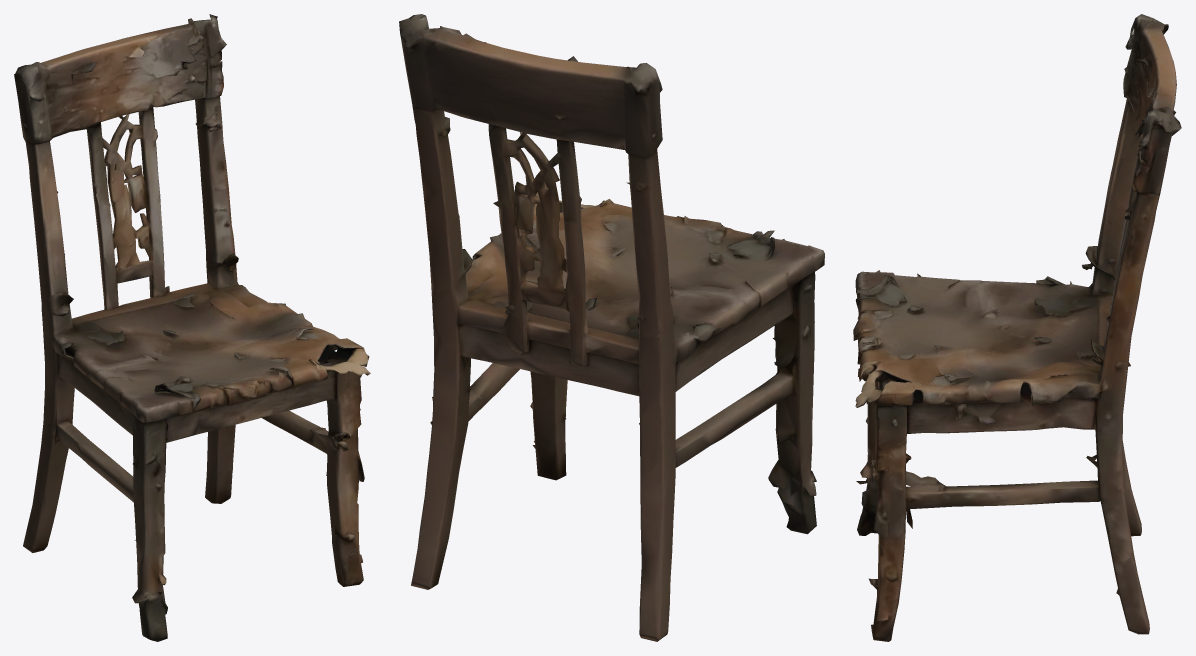
The model's file is chair.glb.
3 views of the same model, side by side, from view 1: azimuth 30°, elevation 25°; view 2: azimuth 150°, elevation 25°; view 3: azimuth 270°, elevation 25° (orthographic). The views are drawn at different scales.
Visible parts, largest first — view 1: tripo_node_5ce61c42-be4f-48c4-80ad-96c558db08ab; view 2: tripo_node_5ce61c42-be4f-48c4-80ad-96c558db08ab; view 3: tripo_node_5ce61c42-be4f-48c4-80ad-96c558db08ab.
Boxes of the visible parts, <box> form: tripo_node_5ce61c42-be4f-48c4-80ad-96c558db08ab: <box>14,14,370,641</box>; tripo_node_5ce61c42-be4f-48c4-80ad-96c558db08ab: <box>399,14,824,641</box>; tripo_node_5ce61c42-be4f-48c4-80ad-96c558db08ab: <box>853,14,1181,641</box>.
Size of the model in its own units: 0.5113 by 1 by 0.574.
Materials: 1 (1 with a texture image).
